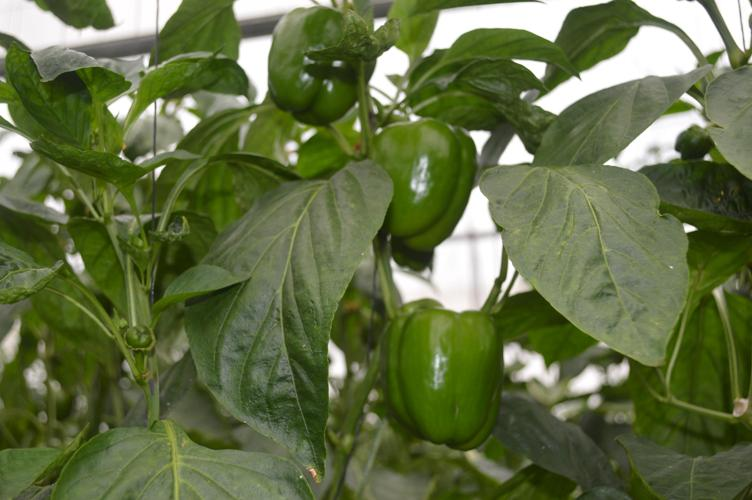BellPepper: (373, 301, 503, 447), (366, 118, 481, 248), (261, 7, 376, 127)
